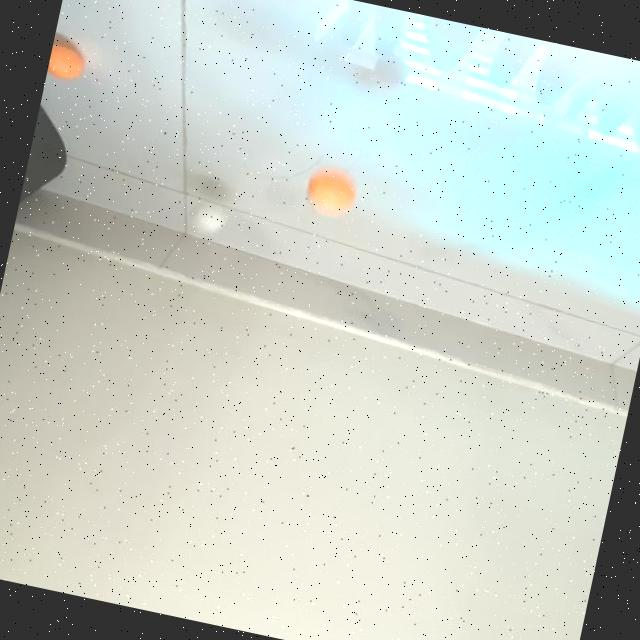ping-pong-ball: (302, 167, 356, 216), (45, 41, 88, 82), (186, 198, 230, 236)
